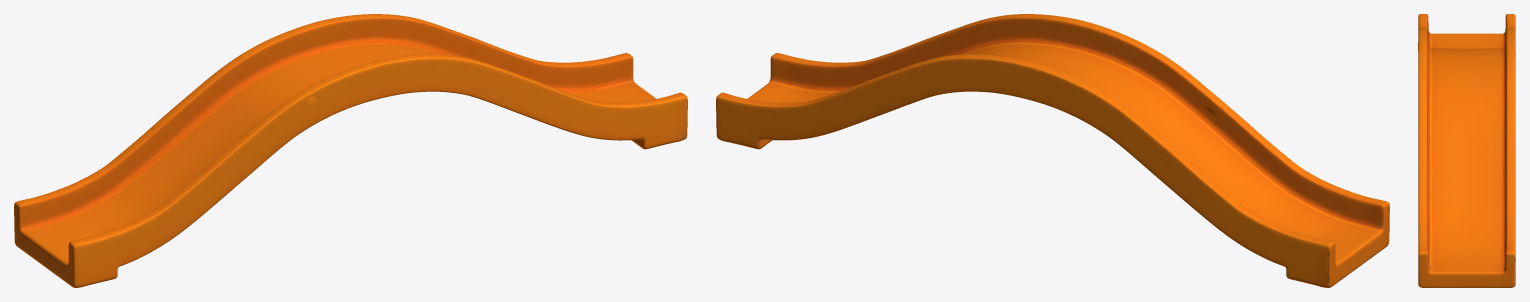
The model's file is bridge.glb.
3 views of the same model, side by side, from view 1: azimuth 30°, elevation 25°; view 2: azimuth 150°, elevation 25°; view 3: azimuth 270°, elevation 25° (orthographic). The views are drawn at different scales.
Visible parts, largest first — view 1: material; view 2: material; view 3: material.
Boxes of the visible parts, x1=… form: material: x1=14, y1=14, x2=687, y2=287; material: x1=716, y1=14, x2=1389, y2=287; material: x1=1418, y1=14, x2=1515, y2=287.
Size of the model in its own units: 1.16 by 0.272 by 0.1991.
Materials: 1 (1 with a texture image).
